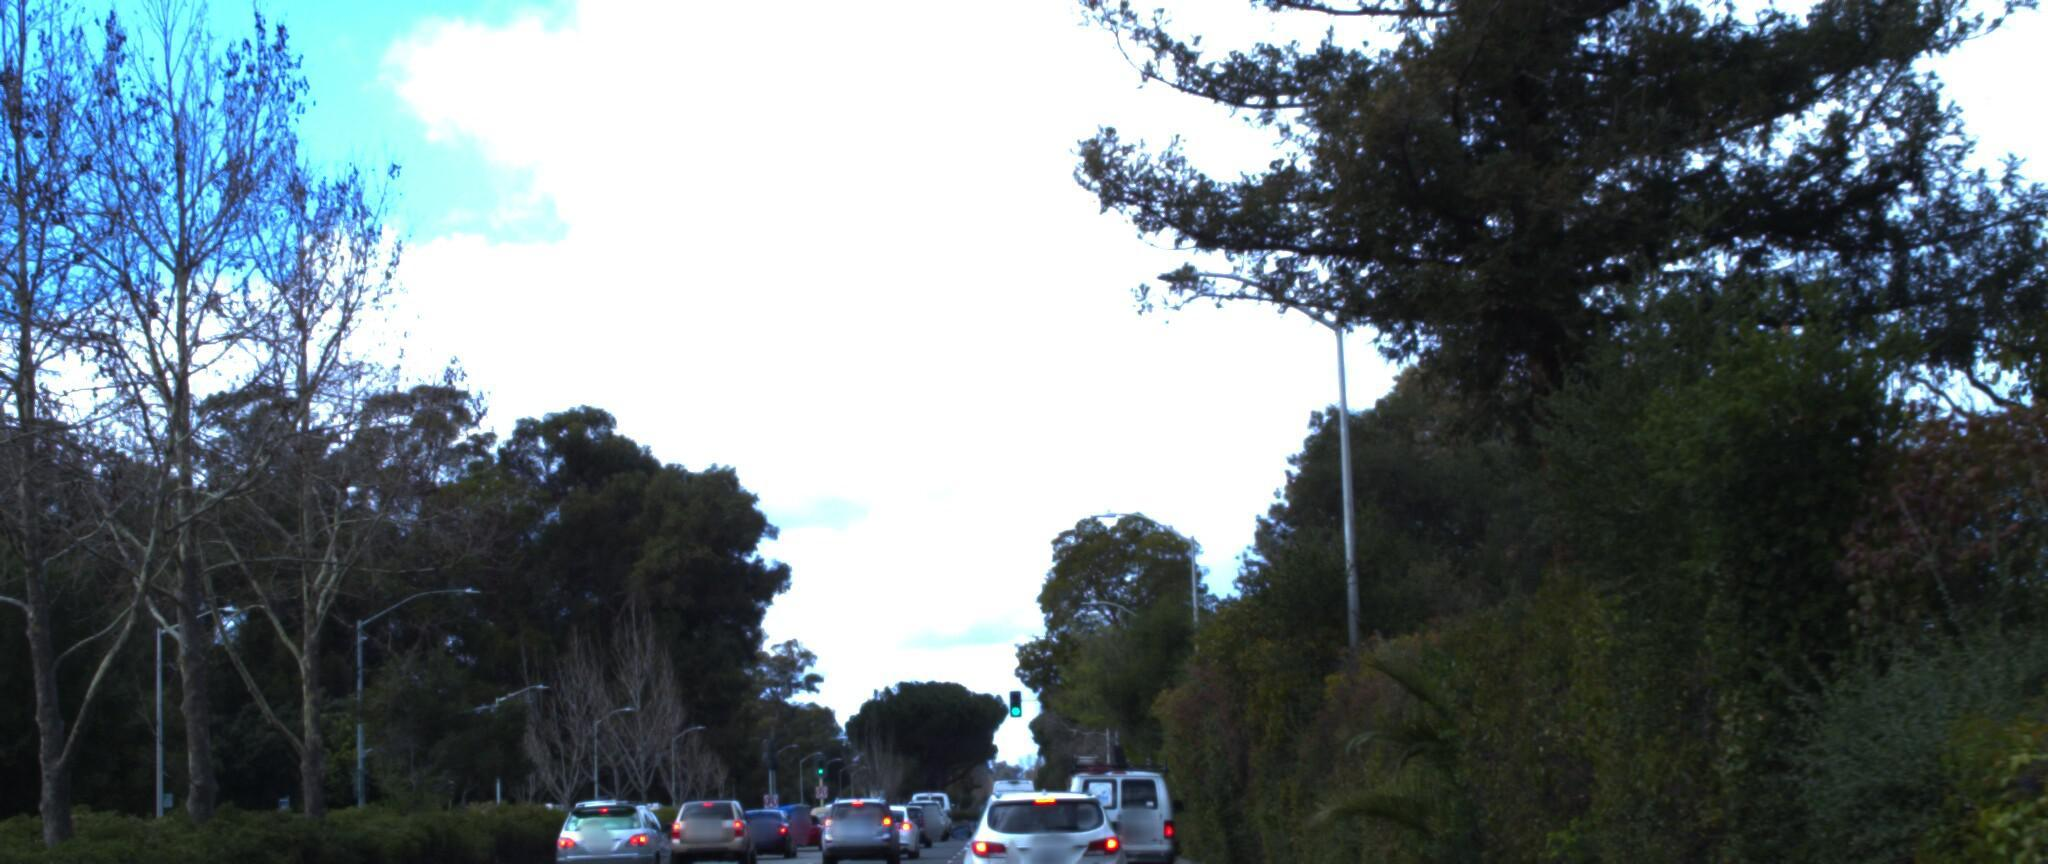car: (1064, 723, 1203, 864), (960, 758, 1144, 864), (0, 826, 447, 864), (554, 771, 690, 864), (670, 775, 771, 852), (822, 767, 916, 850)
